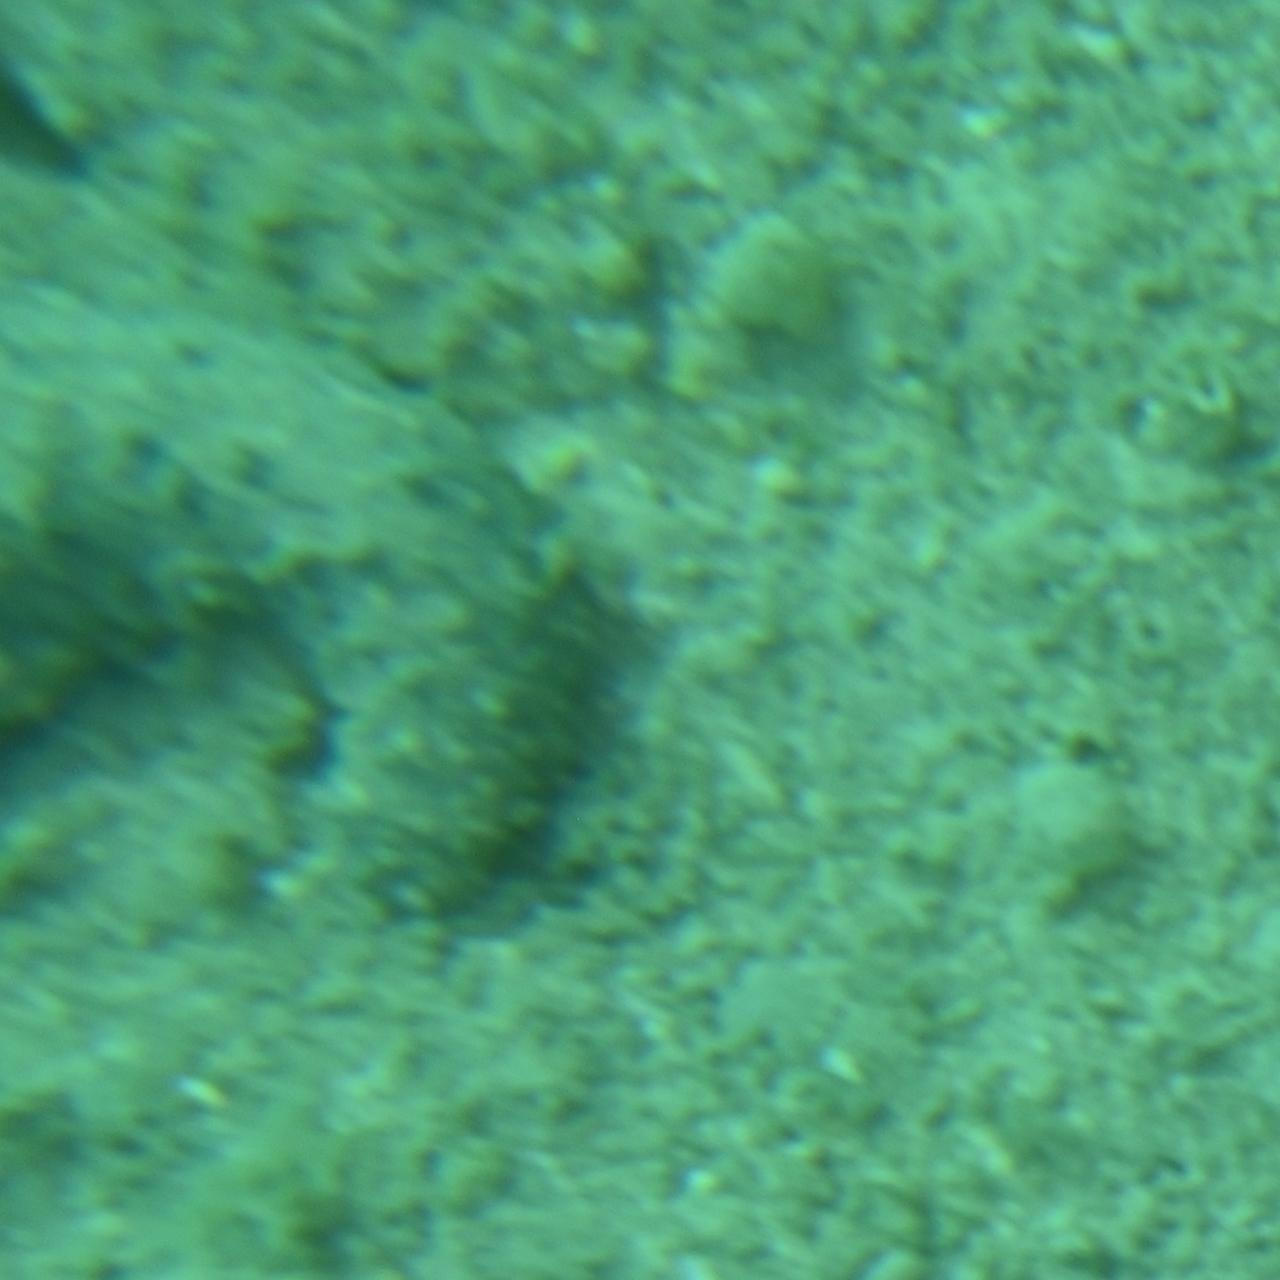Holothuria tubulosa: (0, 248, 622, 940)
